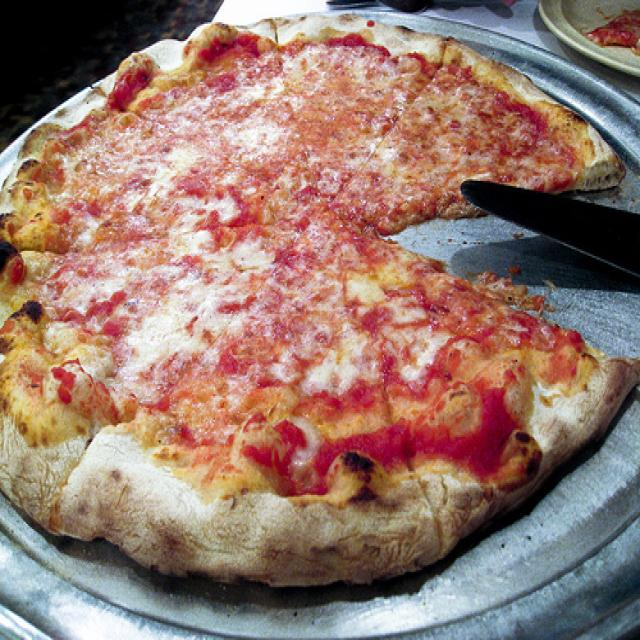Wet Waste: (0, 6, 640, 606)
